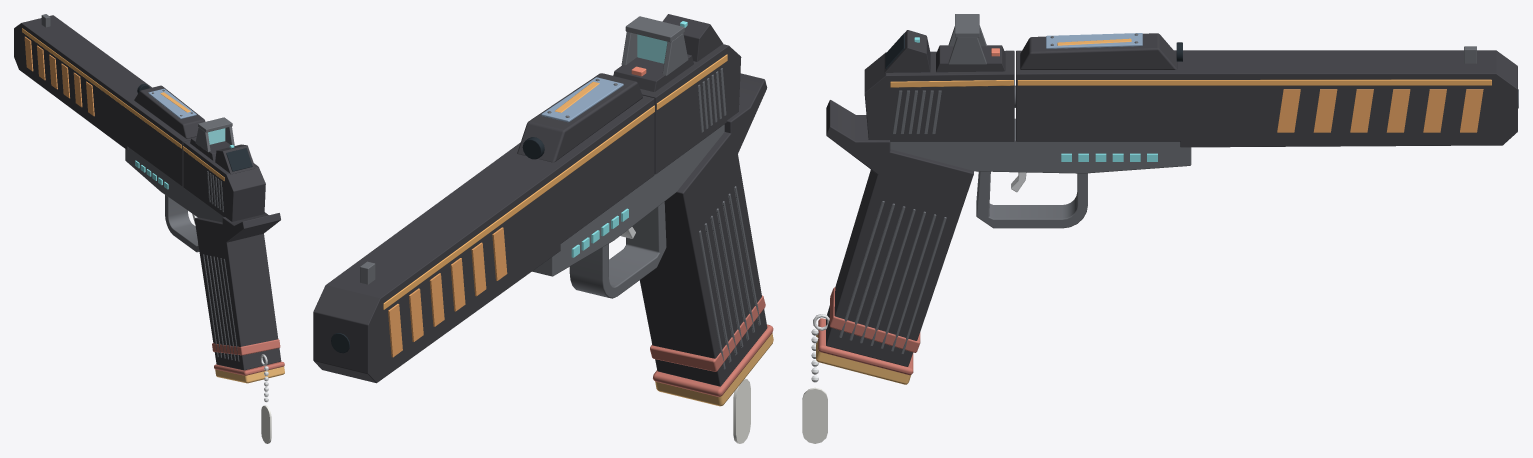
Rendered from smart_pistol_t1.glb.
3 renders of one model, left to right at view 1: azimuth 30°, elevation 25°; view 2: azimuth 150°, elevation 25°; view 3: azimuth 270°, elevation 25°, orthographic. The views are drawn at different scales.
Parts seen in each view (by area): view 1: Frame, Shroud, Slide, Vents, TrackerScreen, MagBase, TrackerGlass, Details, CharmTag; view 2: Shroud, Frame, Slide, TrackerScreen, Vents, MagBase, TrackerGlass, Details, CharmTag, HoloGlass; view 3: Shroud, Frame, Slide, Vents, TrackerScreen, MagBase, CharmTag, TrackerGlass, Details.
Part boxes in pixels (box(x1,y1,x2,y2)): Frame: box(125, 148, 281, 370); Shroud: box(14, 14, 196, 186); Slide: box(182, 117, 265, 221); Vents: box(24, 36, 94, 116); TrackerScreen: box(134, 85, 205, 138); MagBase: box(214, 361, 284, 383); TrackerGlass: box(137, 84, 196, 118); Details: box(212, 339, 280, 355); CharmTag: box(261, 366, 271, 443); Shroud: box(313, 95, 654, 383); Frame: box(532, 73, 767, 386); Slide: box(613, 14, 741, 174); TrackerScreen: box(517, 73, 642, 162); Vents: box(388, 227, 507, 357); MagBase: box(653, 324, 773, 406); TrackerGlass: box(522, 77, 623, 159); Details: box(650, 295, 765, 371); CharmTag: box(733, 378, 750, 443); HoloGlass: box(637, 34, 667, 63); Shroud: box(1014, 46, 1518, 147); Frame: box(813, 100, 1191, 366); Slide: box(864, 14, 1014, 141); Vents: box(1277, 89, 1483, 132); TrackerScreen: box(1020, 33, 1177, 69); MagBase: box(816, 318, 913, 384); CharmTag: box(802, 329, 827, 443); TrackerGlass: box(1046, 33, 1182, 61); Details: box(829, 287, 920, 352).
Size of the model in its own units: 0.0392 by 0.2587 by 0.4.
